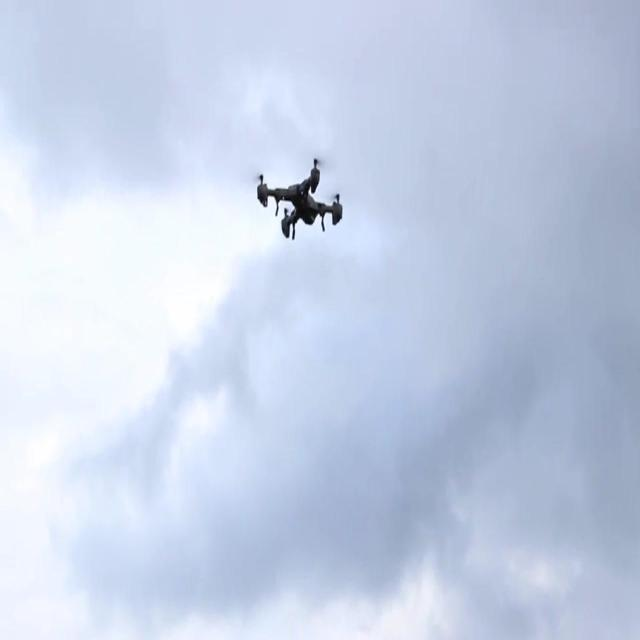drone: (253, 155, 345, 244)
